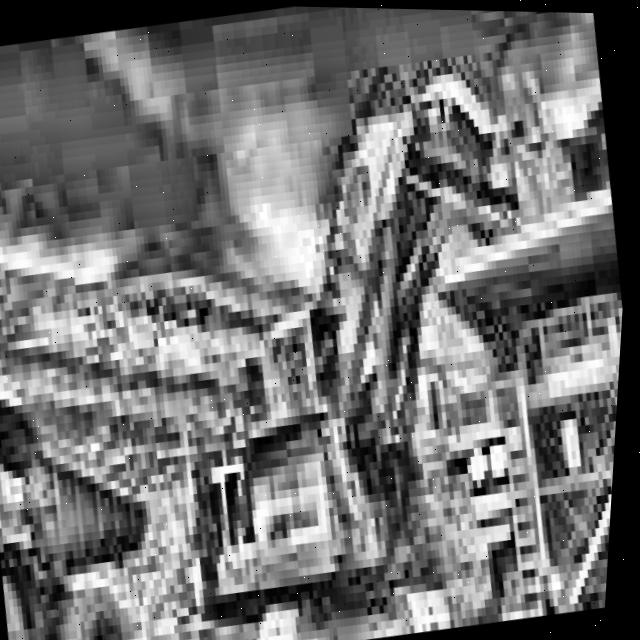dump_truck: (414, 136, 634, 624), (0, 258, 197, 640)
excavator: (117, 3, 640, 640)
